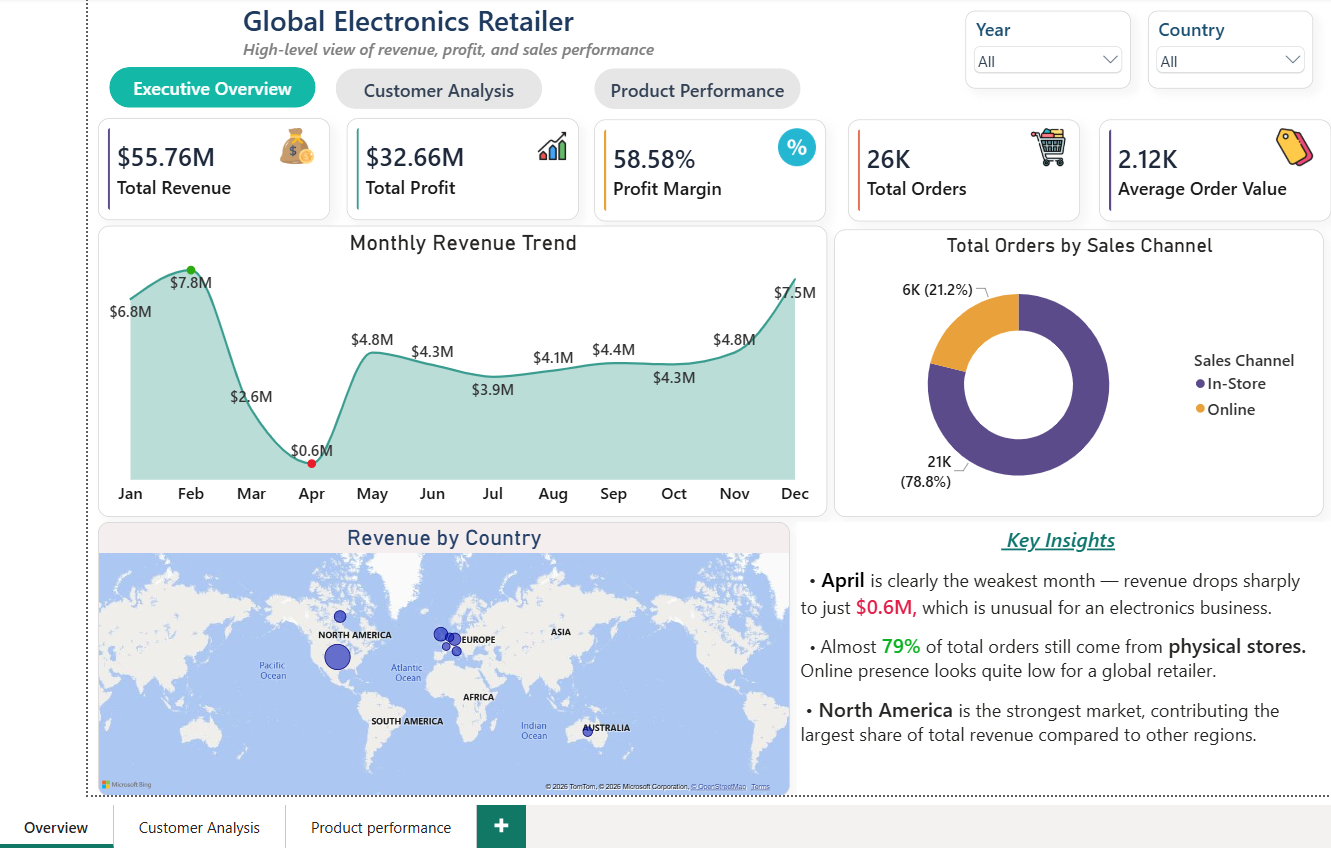

The page's visual inventory and layout, read from the dashboard file:
{"tool":"powerbi","page":{"name":"Overview","canvas":[1650,1060],"ordinal":0},"visuals":[{"type":"cardVisual","fields":{"Data":["Sales_clean.AOV"]},"box":[1678.5,82.7,351.9,156.6],"z":0},{"type":"textbox","box":[200.5,0,716.7,95.3],"z":1000},{"type":"cardVisual","fields":{"Data":["_Measure.Total Revenue"]},"box":[13.3,161,307.7,135],"z":2000},{"type":"cardVisual","fields":{"Data":["_Measure.Total Profit"]},"box":[343.5,161,307.7,135],"z":3000},{"type":"cardVisual","fields":{"Data":["_Measure.Profit Margin %"]},"box":[672,162.6,307.4,135],"z":4000},{"type":"cardVisual","fields":{"Data":["_Measure.Total Orders"]},"box":[1008.2,162,307.7,135],"z":5000},{"type":"cardVisual","fields":{"Data":["_Measure.AOV"]},"box":[1342.4,162.6,307.7,135],"z":6000},{"type":"lineChart","title":"Monthly Revenue Trend","fields":{"Category":["Calender Table.Month"],"Y":["_Measure.Total Revenue"]},"box":[13.3,303.7,968,386],"z":7000},{"type":"donutChart","fields":{"Category":["Sales_clean.Sales Channel"],"Y":["_Measure.Total Orders"]},"box":[990.2,307.8,649.9,381.7],"z":8000},{"type":"map","title":"Revenue by Country","fields":{"Category":["Customers_clean.country"],"Size":["_Measure.Total Revenue"]},"box":[13.3,696.9,918,364],"z":9000},{"type":"slicer","fields":{"Values":["Calender Table.Year"]},"box":[1164.9,18.3,219.2,103.3],"z":10000},{"type":"slicer","fields":{"Values":["Customers_clean.country"]},"box":[1407.1,18.3,219.2,103.3],"z":11000},{"type":"actionButton","box":[328.6,94.6,274.5,54],"z":12000},{"type":"actionButton","box":[672,94.6,274,54],"z":13000},{"type":"actionButton","box":[28.8,93.6,274,54],"z":14000},{"type":"image","box":[252.2,172.6,50,50],"z":15000},{"type":"image","box":[590.5,172.8,50,50],"z":16000},{"type":"image","box":[916,174.2,50,50],"z":17000},{"type":"image","box":[1249.4,174.6,50,50],"z":18000},{"type":"image","box":[1576.4,174.2,50,50],"z":19000},{"type":"textbox","box":[941.5,696.7,709.3,363.7],"z":20000}]}

Visuals, with their boxes on the page's 1650x1060 design canvas (x1, y1, x2, y2). These are canvas units, not pixel positions in the 1331x848 screenshot, which may show the page scaled, cropped or inside an application window:
cardVisual - Sales_clean.AOV: (1678,83,2030,239)
textbox: (200,0,917,95)
cardVisual - _Measure.Total Revenue: (13,161,321,296)
cardVisual - _Measure.Total Profit: (344,161,651,296)
cardVisual - _Measure.Profit Margin %: (672,163,979,298)
cardVisual - _Measure.Total Orders: (1008,162,1316,297)
cardVisual - _Measure.AOV: (1342,163,1650,298)
"Monthly Revenue Trend" lineChart: (13,304,981,690)
donutChart - Sales_clean.Sales Channel x _Measure.Total Orders: (990,308,1640,690)
"Revenue by Country" map: (13,697,931,1061)
slicer - Calender Table.Year: (1165,18,1384,122)
slicer - Customers_clean.country: (1407,18,1626,122)
actionButton: (329,95,603,149)
actionButton: (672,95,946,149)
actionButton: (29,94,303,148)
image: (252,173,302,223)
image: (590,173,640,223)
image: (916,174,966,224)
image: (1249,175,1299,225)
image: (1576,174,1626,224)
textbox: (942,697,1651,1060)
